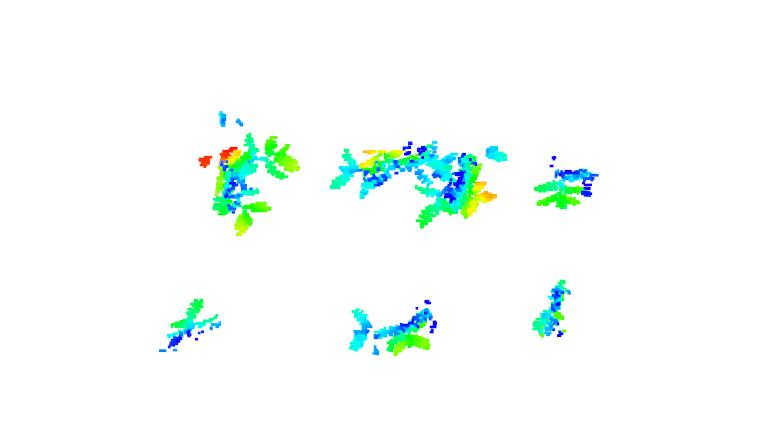chickpea: (200, 130, 302, 233), (413, 146, 506, 231), (329, 137, 433, 200), (346, 303, 434, 355), (160, 297, 221, 355), (531, 164, 599, 211), (531, 282, 574, 339)
